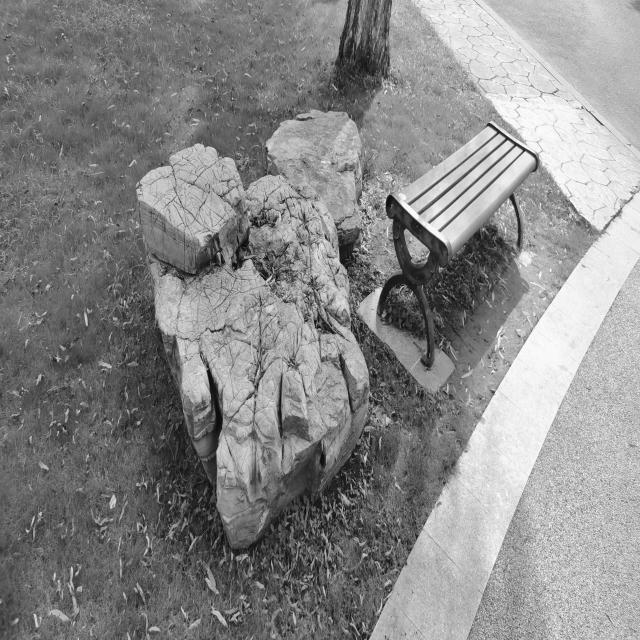Stone: (136, 145, 369, 549), (266, 110, 362, 248)
